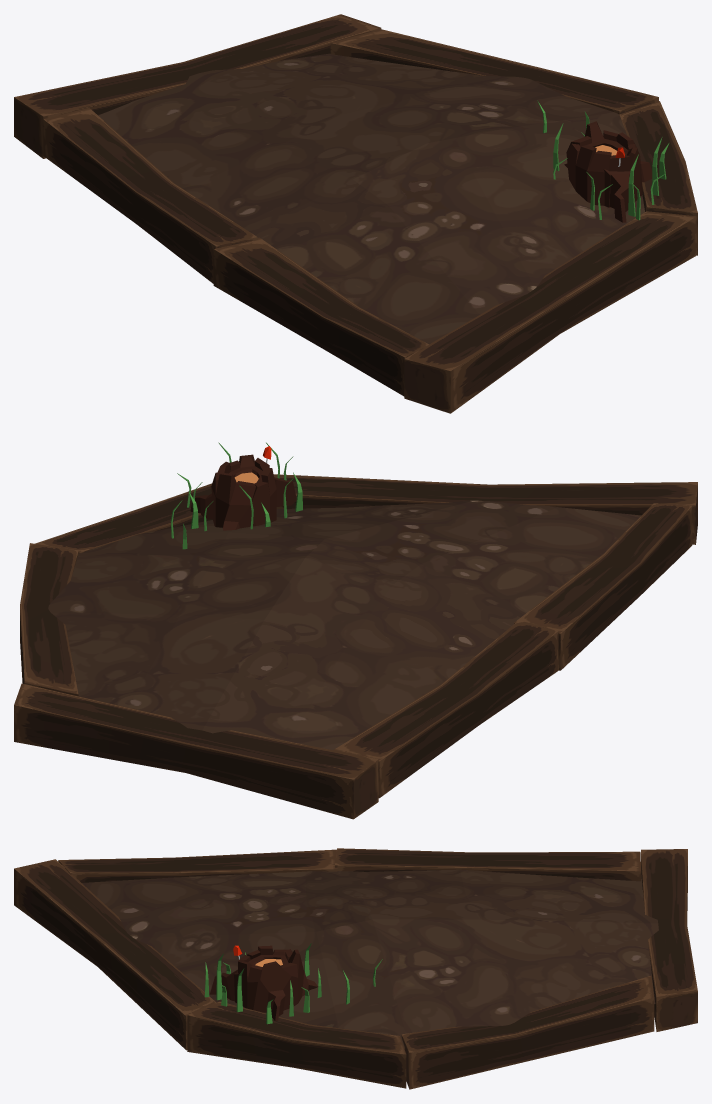
The model's file is GardenSec2.fbx.
The picture shows the model from 3 angles, top to bottom: view 1: azimuth 30°, elevation 25°; view 2: azimuth 150°, elevation 25°; view 3: azimuth 270°, elevation 25°; orthographic projection. The views are drawn at different scales.
Visible parts, largest first — view 1: MOD_Column_01_large_2.001; view 2: MOD_Column_01_large_2.001; view 3: MOD_Column_01_large_2.001.
Part boxes in pixels (<box>): MOD_Column_01_large_2.001: <box>14,14,697,413</box>; MOD_Column_01_large_2.001: <box>14,442,697,819</box>; MOD_Column_01_large_2.001: <box>14,848,697,1089</box>.
Size of the model in its own units: 6.8 by 1.32 by 9.57.
7 materials, 2 textured.
